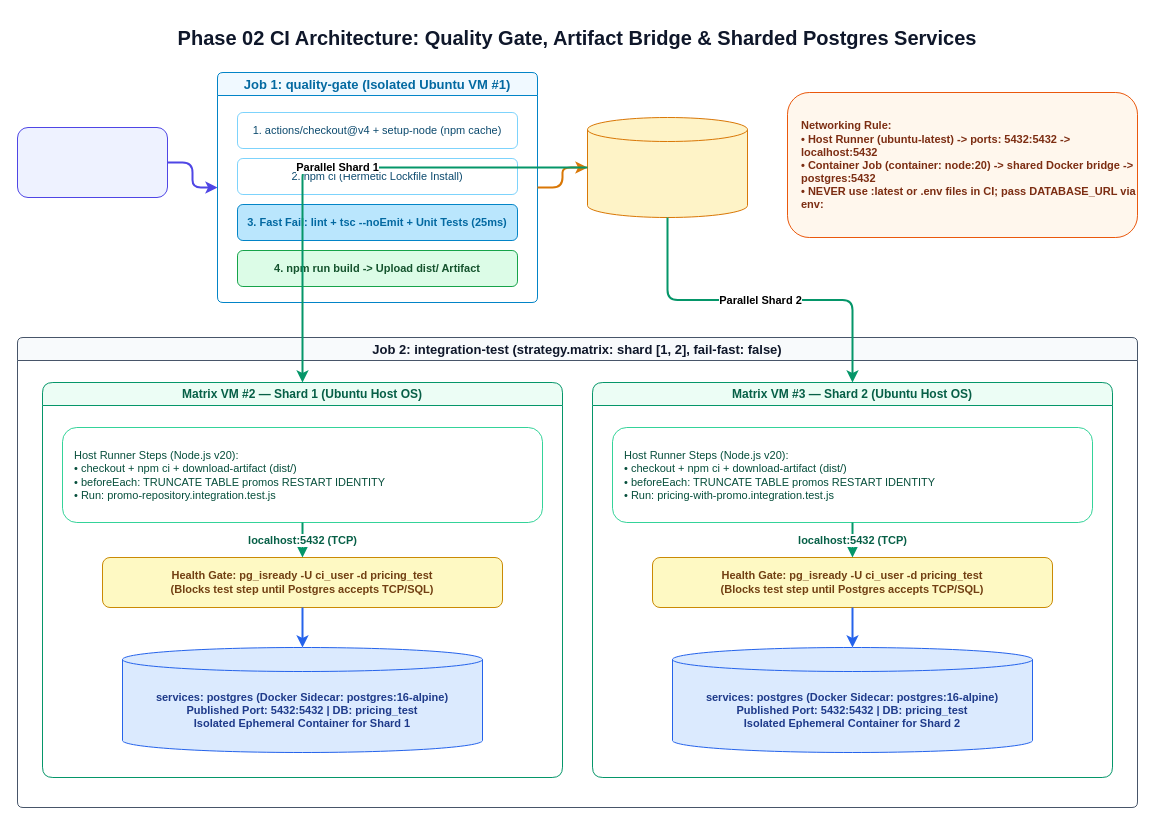
Some shapes in this 1155 by 825 pixel diagram are drawn without their labels. Here are the shapes that lost their labels. From the top down, the centre of each, then its label:
At pixel 92 162: "Git Push / PR (main / master)".
At pixel 667 167: "GitHub Artifact Bridge (pricing-service-dist) needs: quality-gate".
